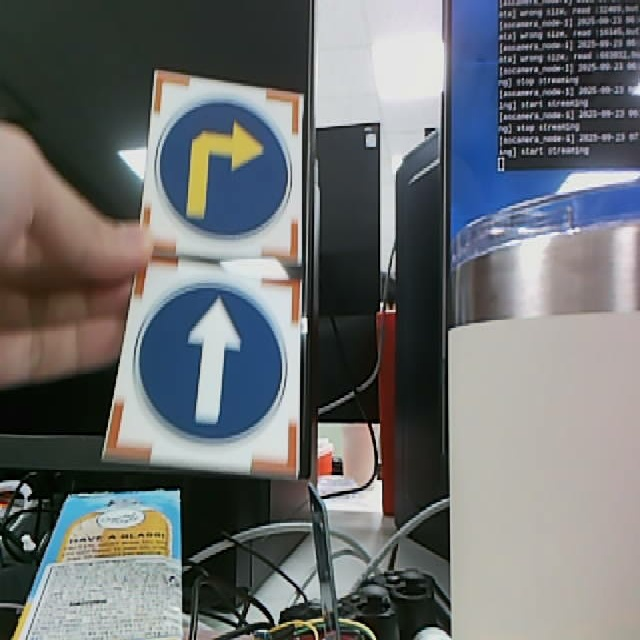right: (139, 69, 305, 263)
straight: (105, 262, 306, 480)
